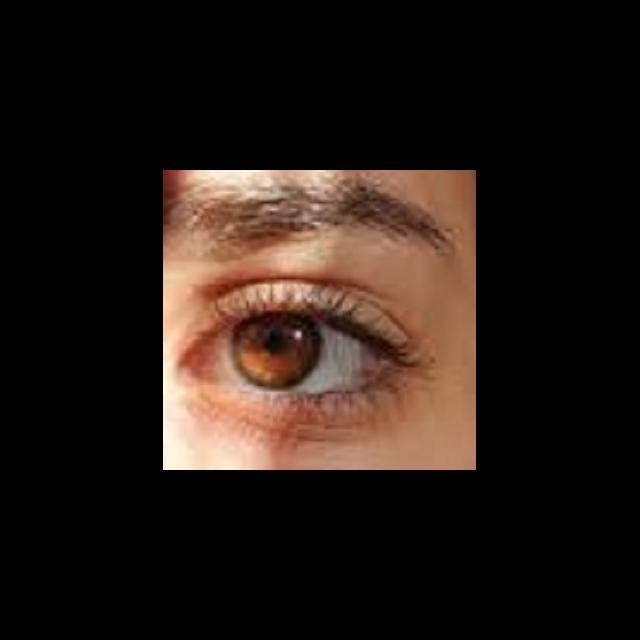eye: (211, 309, 392, 398)
iris: (234, 312, 321, 391)
